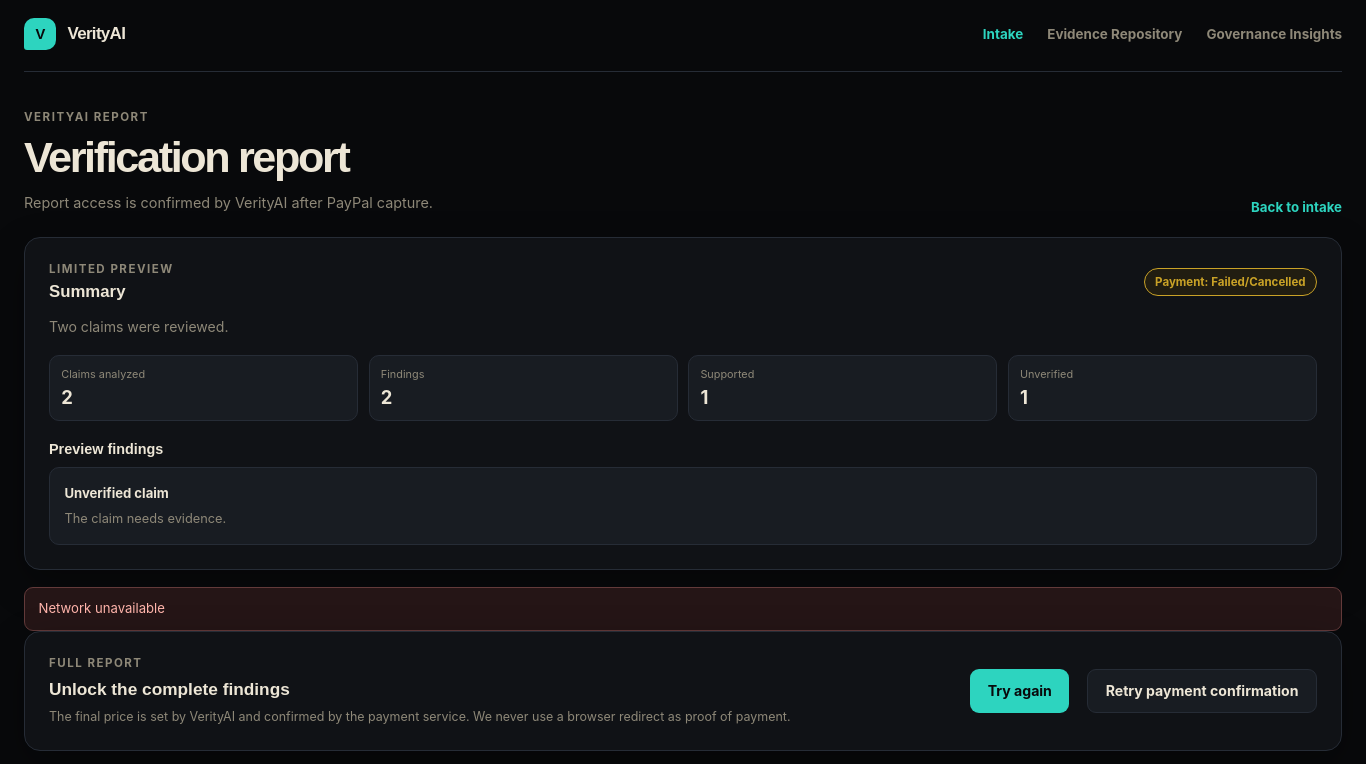
Test case: report payment flow › shows capture failure and allows an idempotent confirmation retry
The width and height of the screenshot is (1366, 764).
Expected: the text "Payment: failed/cancelled" is shown, left=1144, top=268, right=1317, bottom=296
Expected: the text "Network unavailable" is shown, left=24, top=587, right=1342, bottom=631
Step 1. Click the button "Retry payment confirmation" → (1202, 691), box left=1087, top=669, right=1317, bottom=713
(page scrolled)
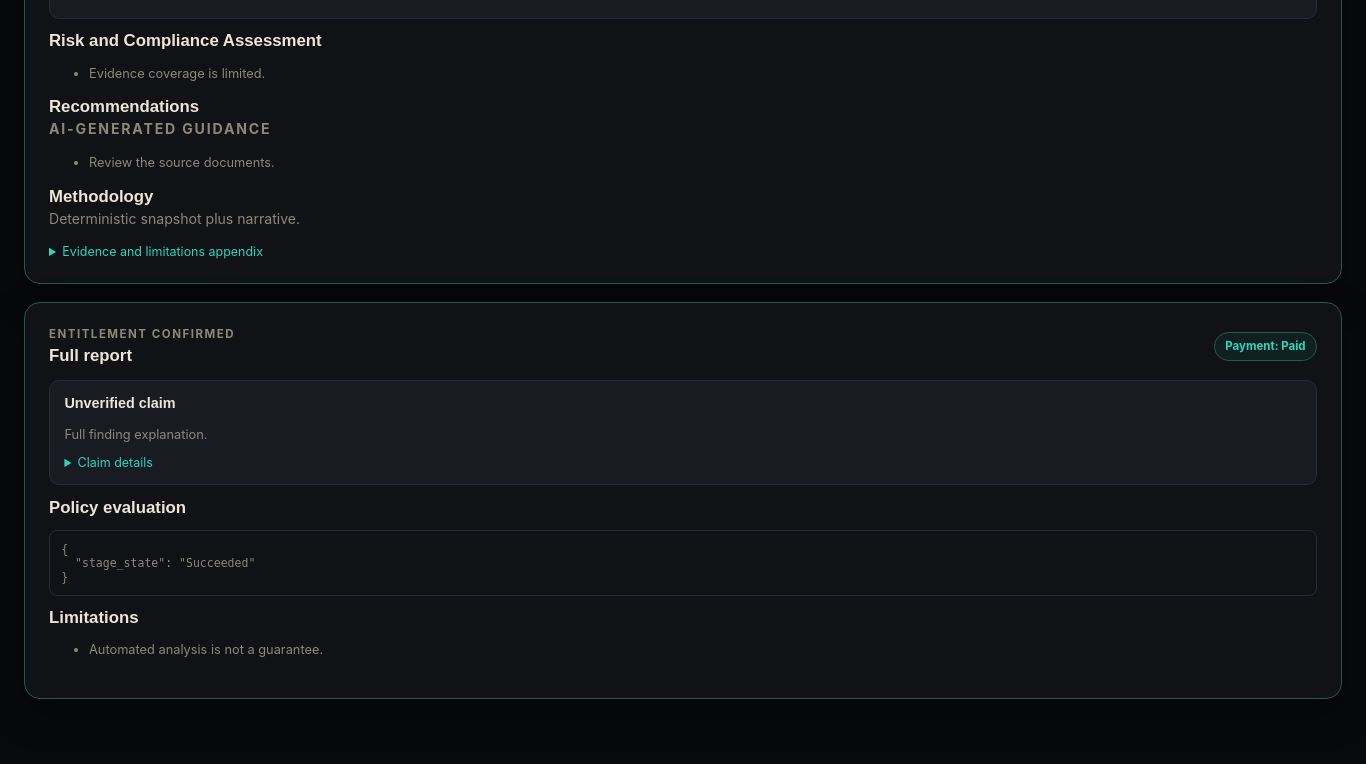
Now the text "Full finding explanation." is shown, box left=64, top=427, right=208, bottom=442
